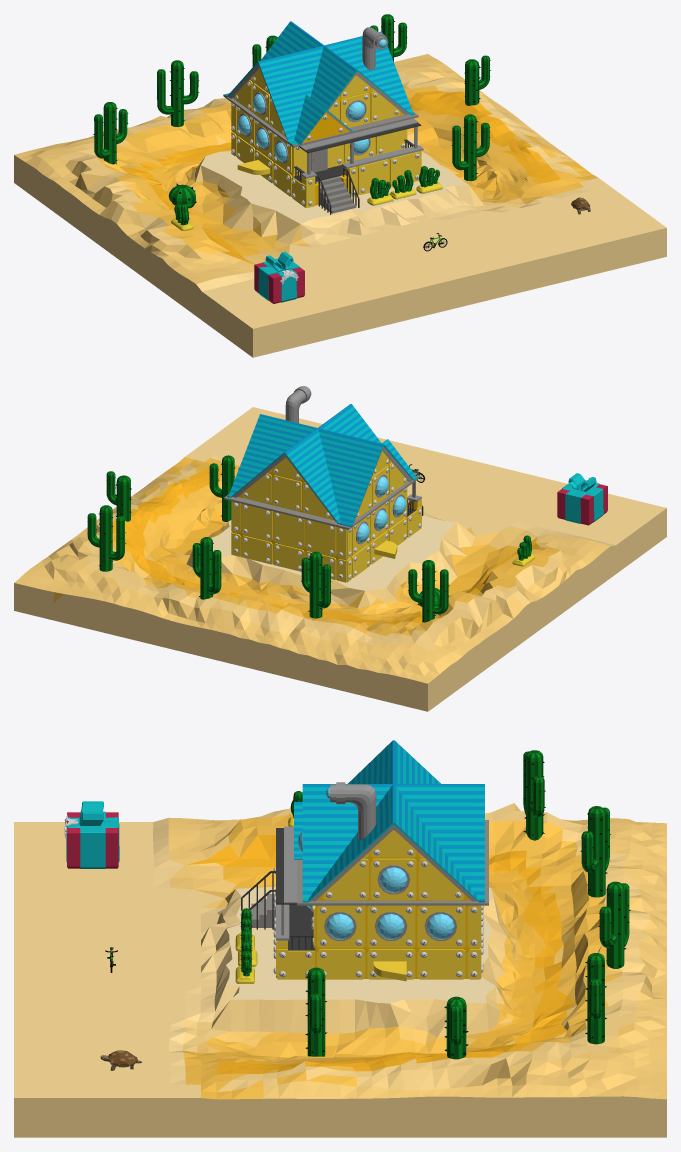
3 views of the same model, one above another, from view 1: azimuth 30°, elevation 25°; view 2: azimuth 150°, elevation 25°; view 3: azimuth 270°, elevation 25° (orthographic). The views are drawn at different scales.
Visible parts, largest first — view 1: Cube.001, Cube.1366, OBJRANDOM_GIANT_PRESENT, Cylinder.044, Cylinder.037, Cylinder.045, Cylinder.038, Cylinder.042, Cylinder.039, Cylinder.041; view 2: Cube.001, Cube.1366, OBJRANDOM_GIANT_PRESENT, Cylinder.042, Cylinder.045, Cylinder.044, Cylinder.043, Cylinder.037, Cylinder.038; view 3: Cube.001, Cube.1366, OBJRANDOM_GIANT_PRESENT, Cylinder.043, Cylinder.044, Cylinder.045, Cylinder.037, Cylinder.042, Cylinder.038, Cylinder.041.
Boxes of the visible parts, x1,y1,x2,y2 form: Cube.001: (14, 54, 666, 357); Cube.1366: (223, 21, 423, 214); OBJRANDOM_GIANT_PRESENT: (254, 251, 304, 303); Cylinder.044: (157, 60, 199, 126); Cylinder.037: (451, 114, 490, 181); Cylinder.045: (93, 102, 128, 164); Cylinder.038: (464, 55, 490, 105); Cylinder.042: (370, 14, 407, 61); Cylinder.039: (367, 178, 393, 205); Cylinder.041: (416, 166, 442, 193); Cube.001: (14, 407, 666, 711); Cube.1366: (224, 386, 423, 582); OBJRANDOM_GIANT_PRESENT: (557, 473, 607, 525); Cylinder.042: (87, 505, 125, 571); Cylinder.045: (408, 560, 449, 622); Cylinder.044: (301, 551, 331, 618); Cylinder.043: (192, 537, 221, 599); Cylinder.037: (209, 455, 238, 521); Cylinder.038: (106, 471, 131, 521); Cube.001: (14, 803, 666, 1137); Cube.1366: (241, 740, 488, 981); OBJRANDOM_GIANT_PRESENT: (64, 801, 119, 868); Cylinder.043: (598, 881, 630, 968); Cylinder.044: (580, 806, 610, 897); Cylinder.045: (523, 750, 545, 840); Cylinder.037: (305, 967, 327, 1056); Cylinder.042: (585, 953, 606, 1044); Cylinder.038: (444, 996, 468, 1059); Cylinder.041: (235, 941, 254, 983).
Size of the model in its own units: 4002 by 1722 by 4001.
31 materials, 2 textured.
